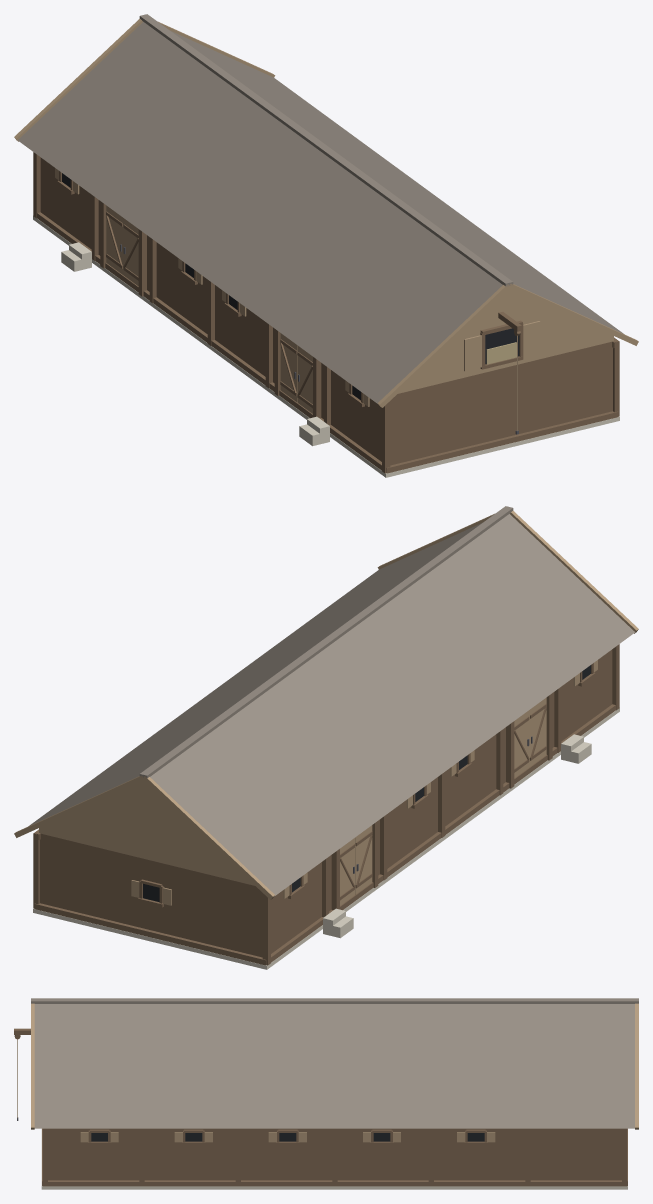
Rendered from stable_long.glb.
3 renders of one model, top to bottom at view 1: azimuth 30°, elevation 25°; view 2: azimuth 150°, elevation 25°; view 3: azimuth 270°, elevation 25°, orthographic. The views are drawn at different scales.
Visible parts, largest first — view 1: StableLong; view 2: StableLong; view 3: StableLong.
Part boxes in pixels (<box>): StableLong: <box>14,14,638,477</box>; StableLong: <box>14,506,638,969</box>; StableLong: <box>14,998,638,1189</box>.
Size of the model in its own units: 10.7 by 6.51 by 25.9.
